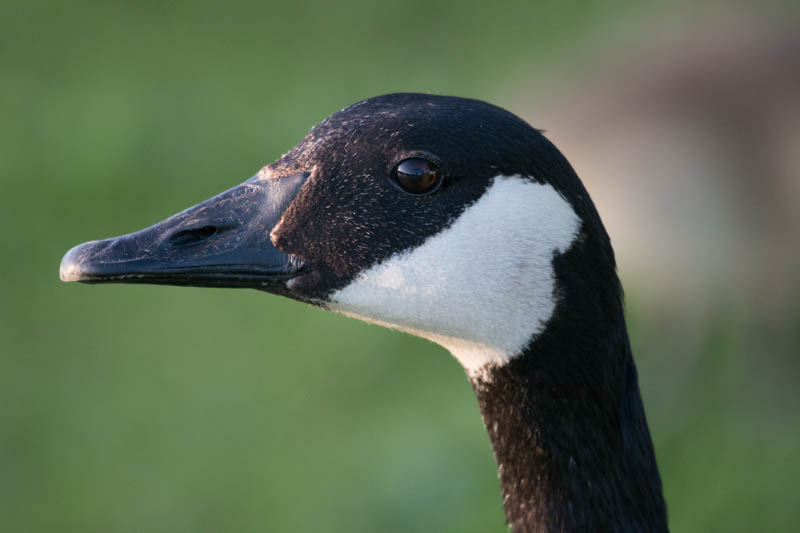goose-head: (58, 93, 624, 384)
